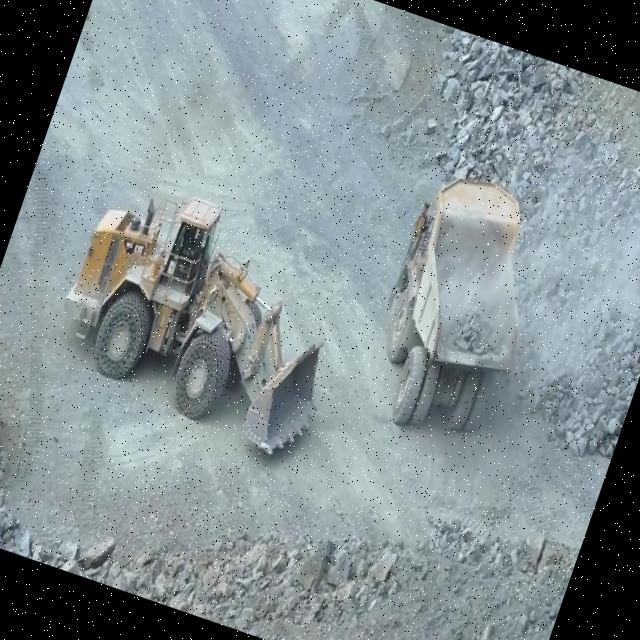Dump Truck: (349, 163, 566, 451)
Loader: (33, 163, 372, 470)
